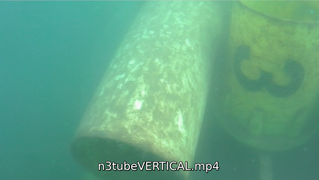3: (233, 45, 305, 98)
pipe: (69, 1, 231, 178), (210, 1, 319, 152)
